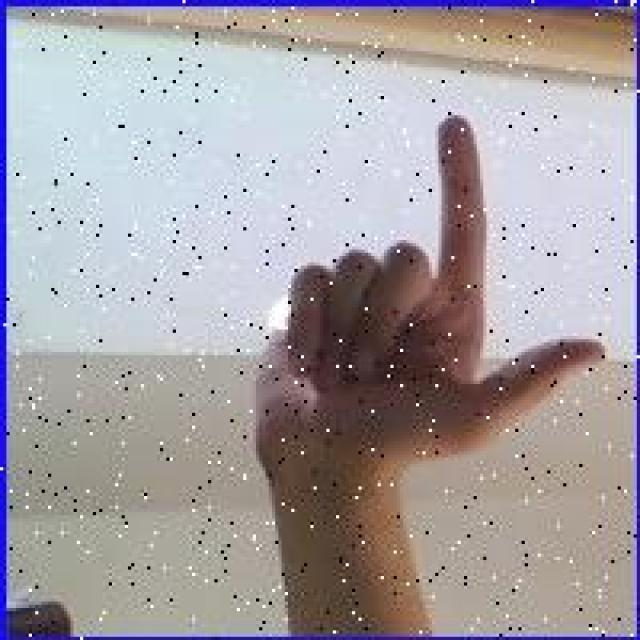L: (248, 109, 610, 528)
